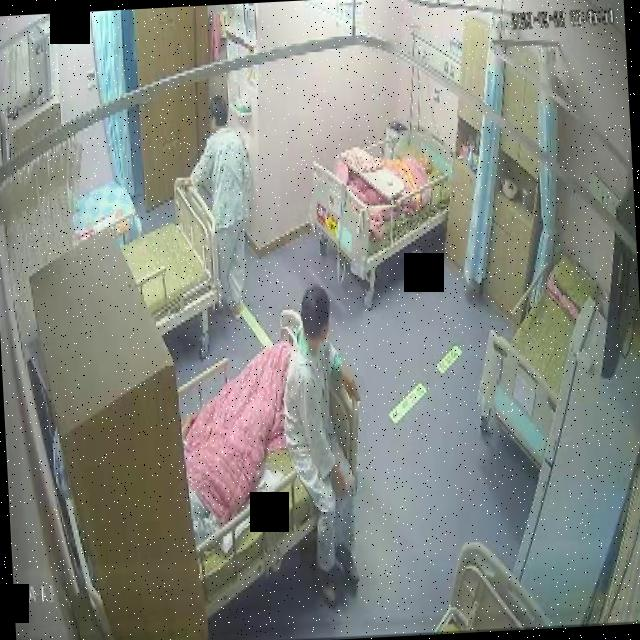bed: (174, 314, 363, 588), (472, 245, 598, 472), (304, 111, 456, 279), (122, 172, 225, 334)
move: (187, 93, 260, 320)
patient: (270, 273, 364, 585), (187, 93, 260, 319)
sit: (272, 272, 362, 586)
